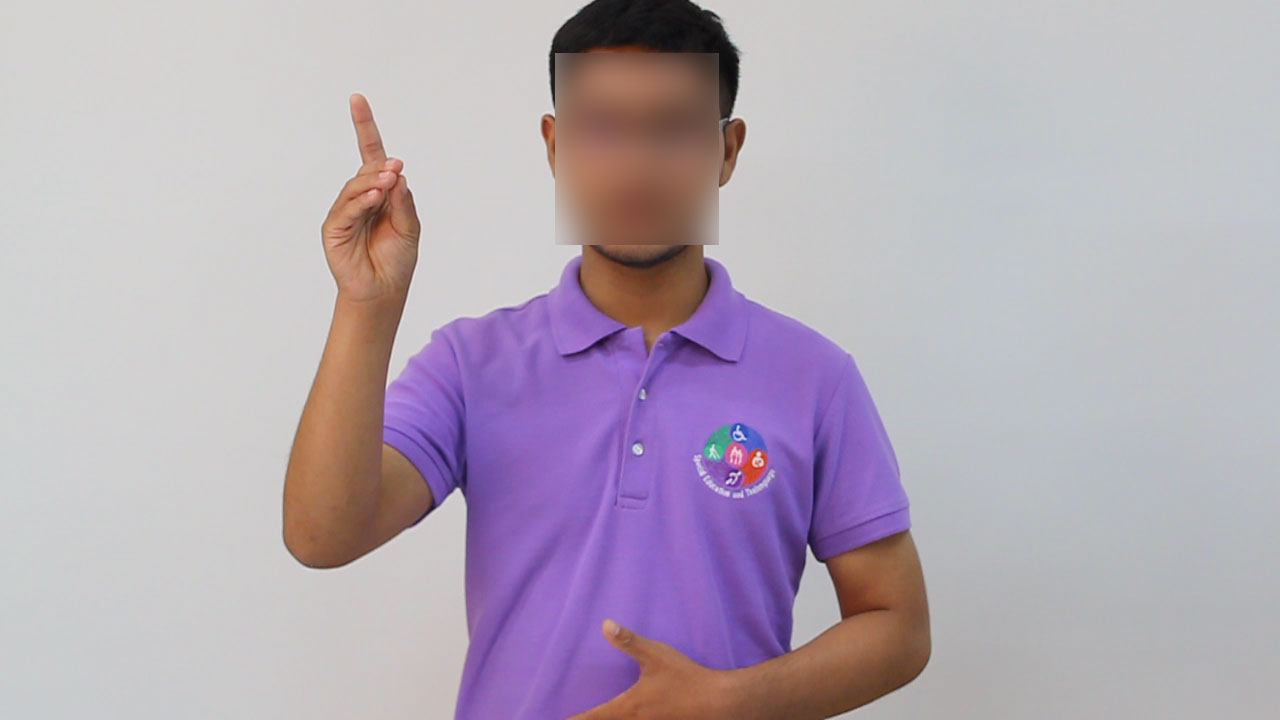dor: (309, 85, 430, 327)
